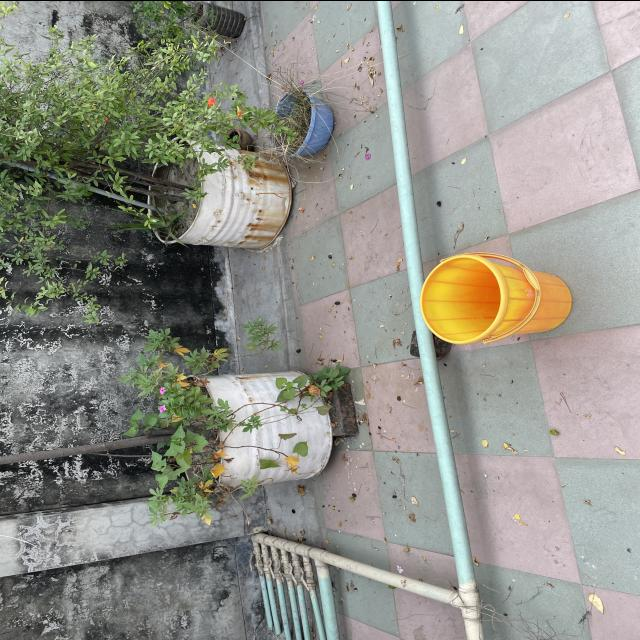Breeding Place: (180, 375, 332, 493), (150, 146, 290, 255), (421, 256, 580, 344), (275, 91, 328, 160), (185, 0, 245, 42)
